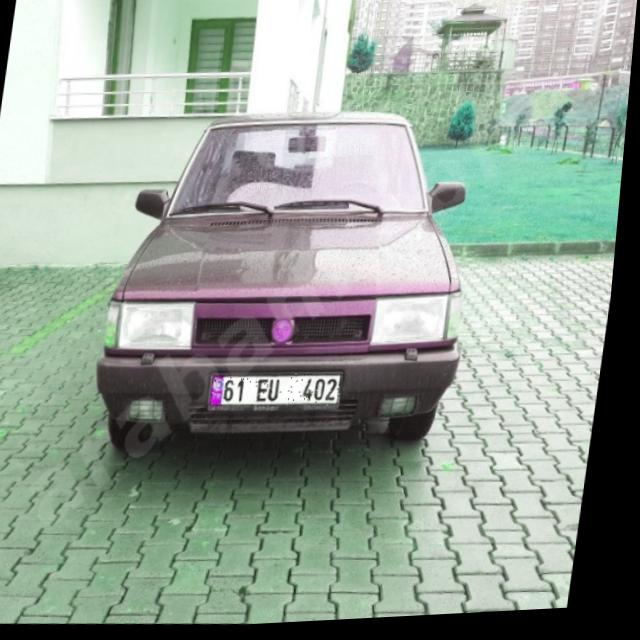license_plate: (216, 371, 350, 415)
